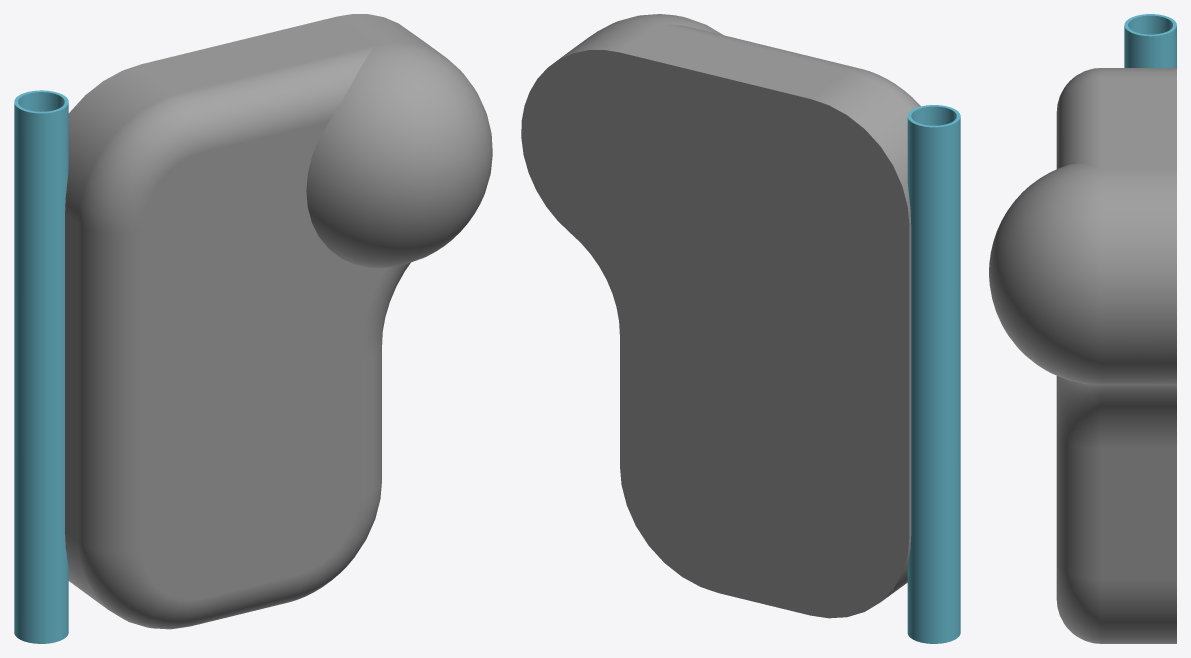
Rendered from Map v4.fbx.
The picture shows the model from 3 angles, left to right: view 1: azimuth 30°, elevation 25°; view 2: azimuth 150°, elevation 25°; view 3: azimuth 270°, elevation 25°; orthographic projection. The views are drawn at different scales.
Visible parts, largest first — view 1: Station, Body8; view 2: Station, Body8; view 3: Station, Body8.
Boxes of the visible parts, box(x1,y1,x2,y2) form: Station: box(65, 14, 492, 629); Body8: box(14, 90, 68, 643); Station: box(521, 14, 920, 618); Body8: box(907, 105, 960, 643); Station: box(989, 68, 1176, 643); Body8: box(1124, 14, 1176, 67).
Bounding box in the file's own units: 64.22 × 75 × 25.
